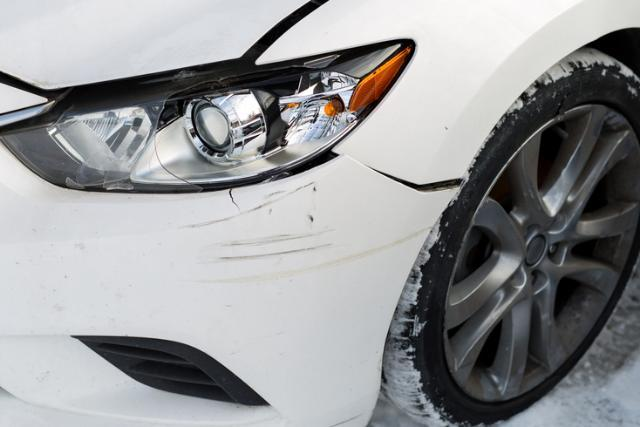Bumper: (0, 154, 475, 427)
Light: (0, 38, 413, 199)
